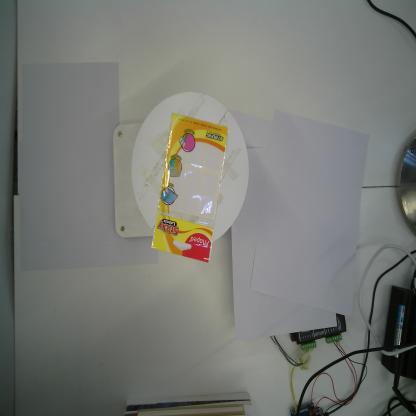Stationery: (150, 111, 230, 265)
